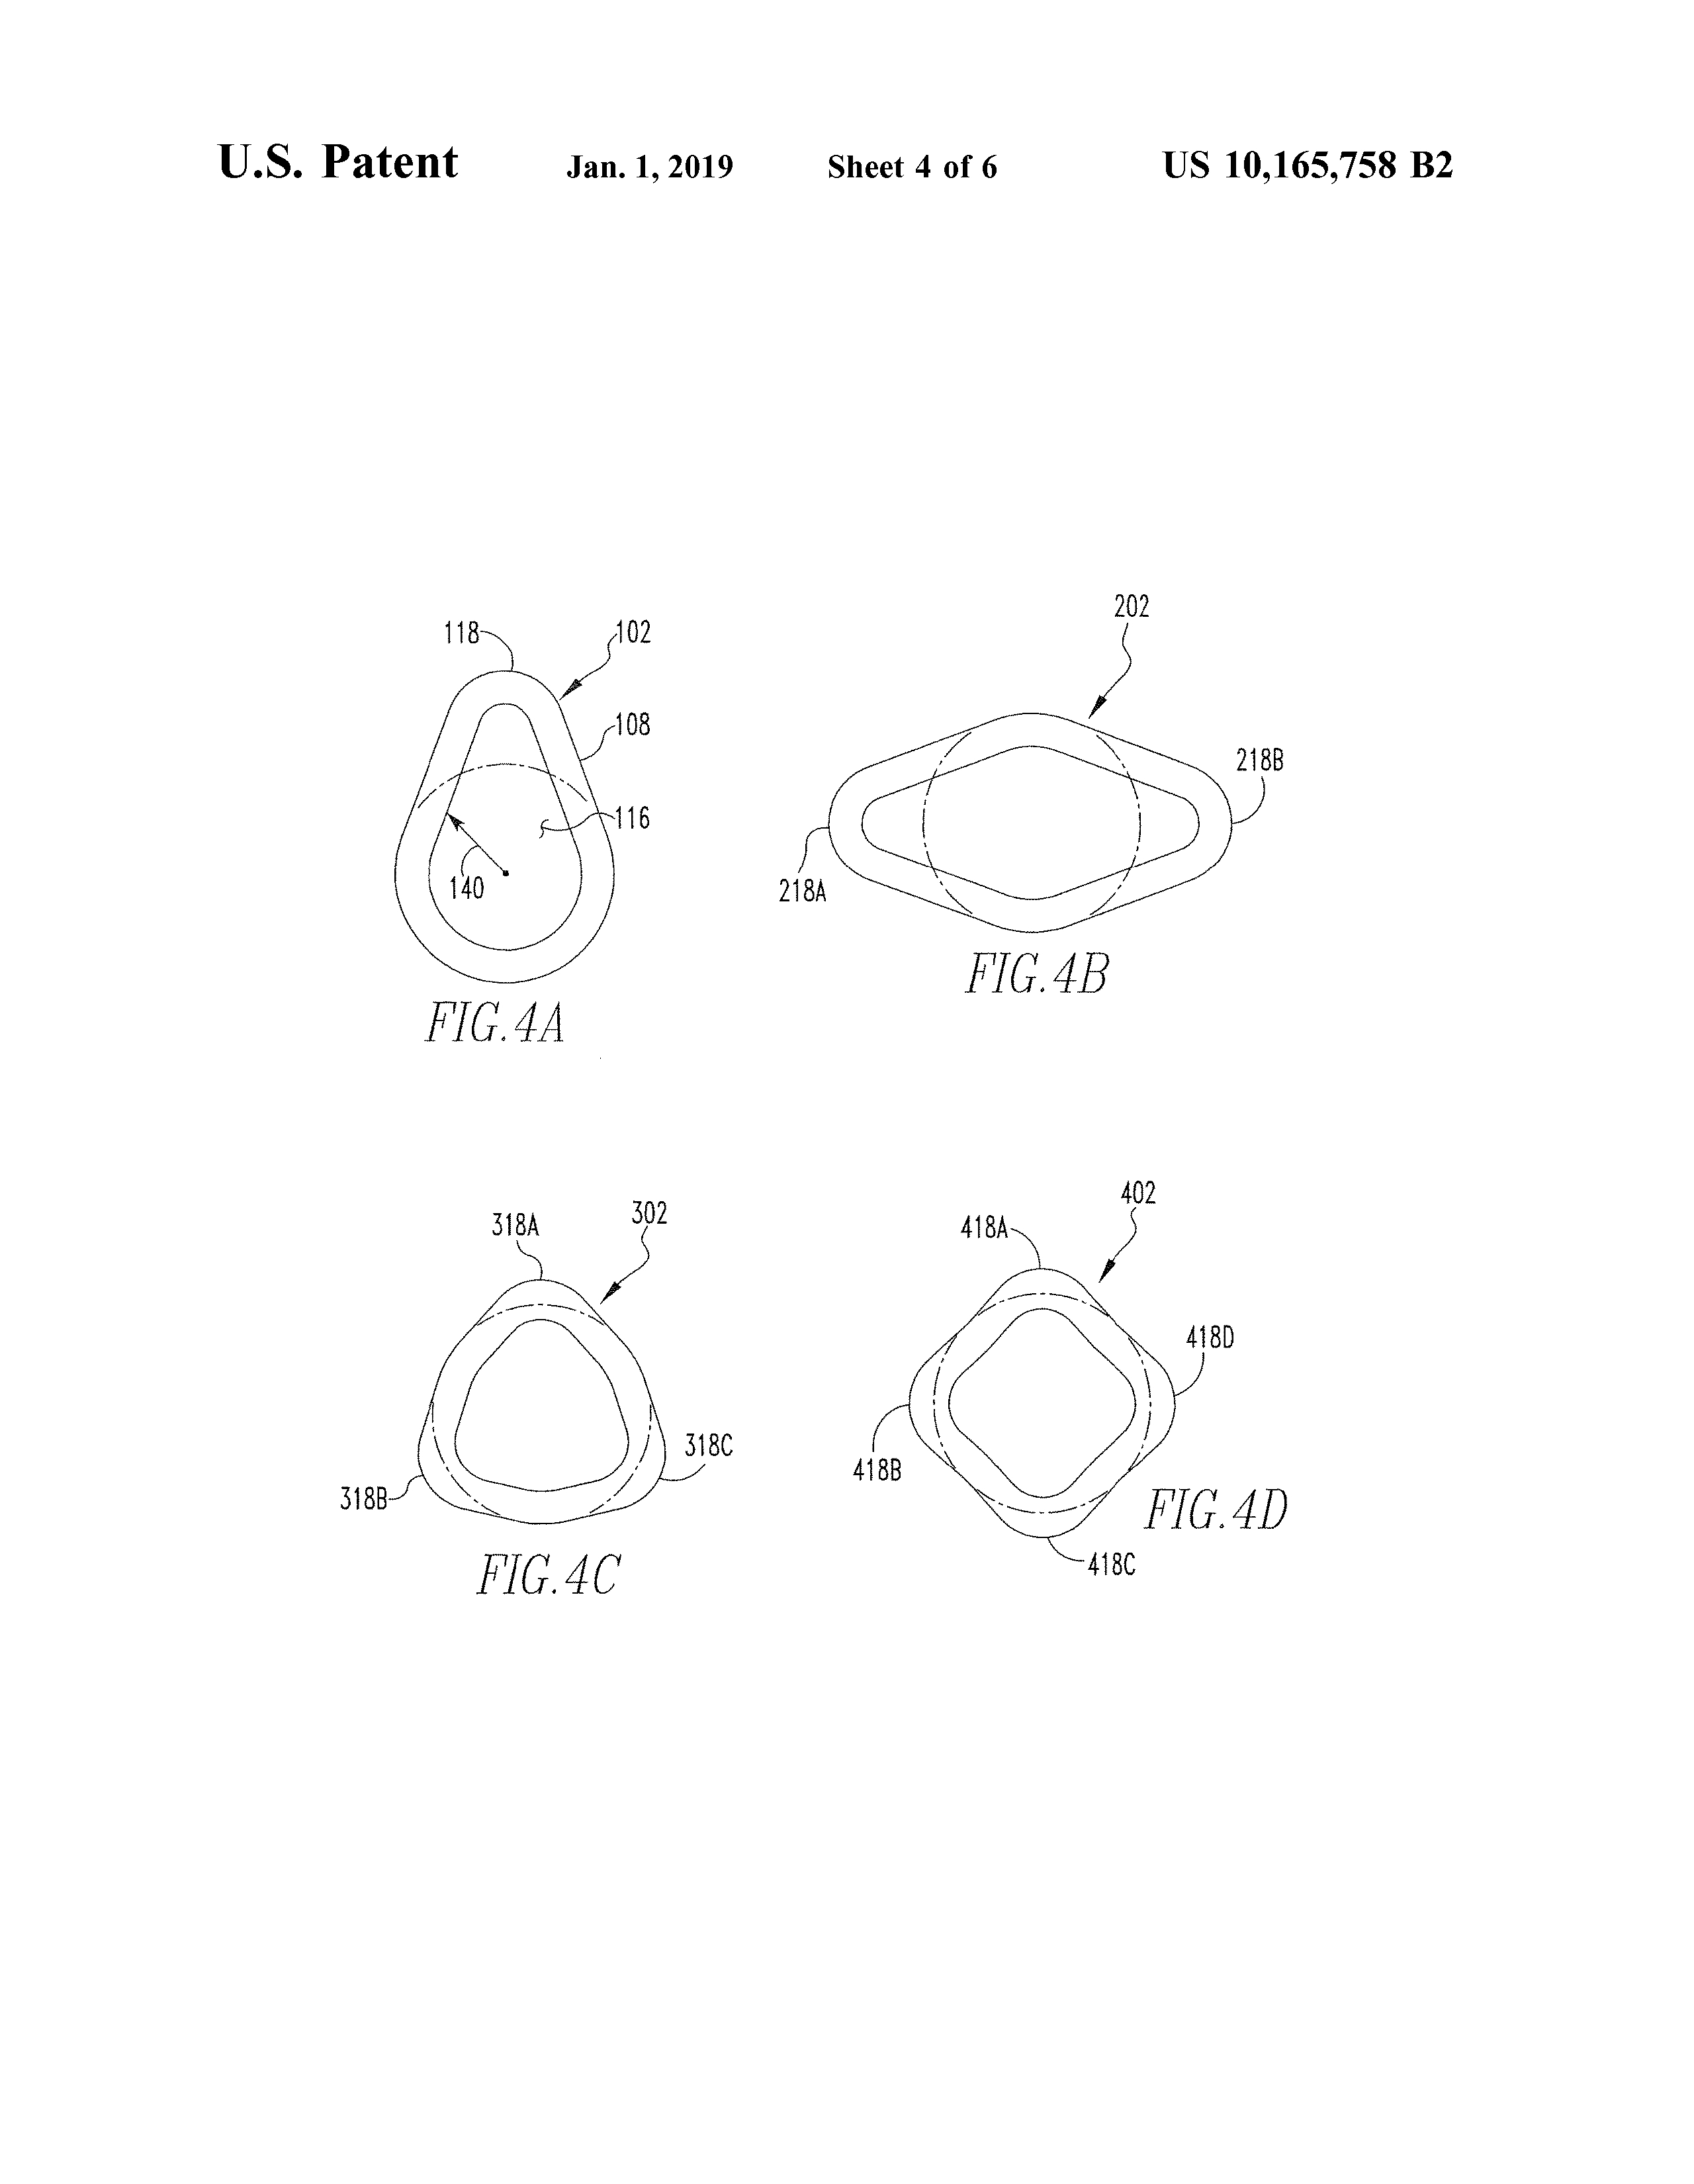patent image: (752, 494, 1333, 1067), (203, 1144, 790, 1643), (807, 1130, 1325, 1638), (319, 543, 713, 1075)
